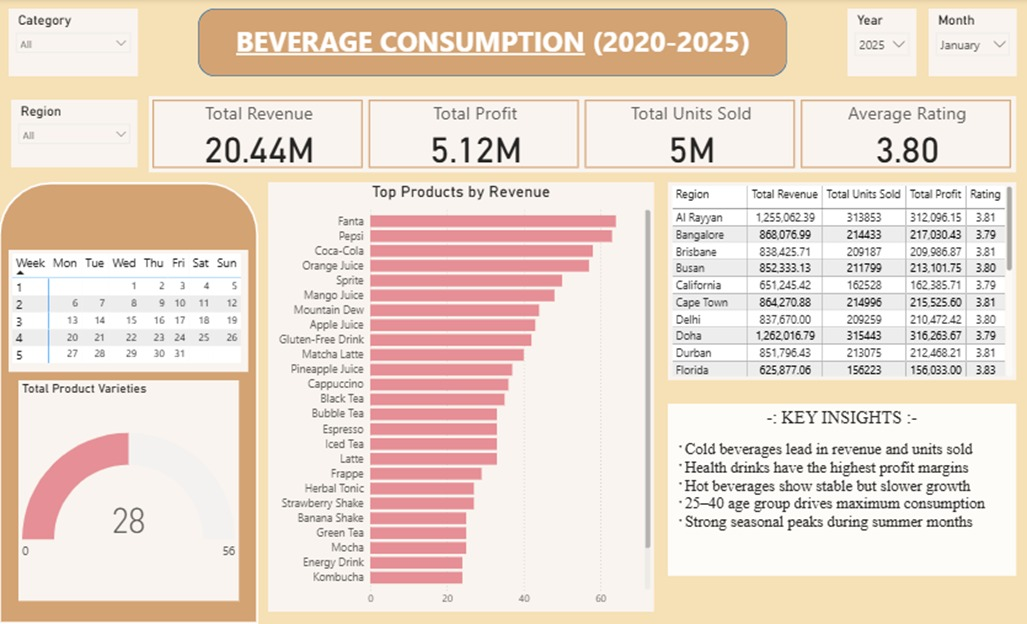

Layout of this report page (visuals, bound fields, positions):
{"tool":"powerbi","page":{"name":"Page 1","canvas":[1400,850],"ordinal":0},"visuals":[{"type":"shape","box":[271.1,13.4,801.5,92],"z":0},{"type":"shape","box":[0,249.3,353.1,600.7],"z":1000},{"type":"slicer","fields":{"Values":["CalendarTable.Year"]},"box":[1154.5,13.4,93.7,92],"z":2000},{"type":"slicer","fields":{"Values":["CalendarTable.Month"]},"box":[1265,13.4,120.5,92],"z":3000},{"type":"pivotTable","fields":{"Rows":["CalendarTable.Week"],"Columns":["CalendarTable.DayName"],"Values":["Sum(CalendarTable.Day)"]},"box":[13.4,341.3,326.3,165.6],"z":4000},{"type":"cardVisual","fields":{"Data":["Sum(beverages_data.Revenue_USD)","Sum(beverages_data.Profit_USD)","Sum(beverages_data.Unit_Sold)","Avg(beverages_data.Rating)"]},"box":[204.1,132.2,1179.6,103.7],"z":5000},{"type":"textbox","box":[312.9,26.8,719.5,66.9],"z":6000},{"type":"barChart","title":"Top Products by Revenue","fields":{"Y":["CountNonNull(beverages_data.Category)"],"Category":["beverages_data.Product"]},"box":[366.4,249.3,525.4,584],"z":7000},{"type":"tableEx","title":"Country by Profit","fields":{"Values":["beverages_data.Region","Sum(beverages_data.Revenue_USD)","Sum(beverages_data.Unit_Sold)","Sum(beverages_data.Profit)","Avg(beverages_data.Rating)"]},"box":[910.2,249.3,473.5,269.4],"z":8000},{"type":"slicer","fields":{"Values":["beverages_data.Category"]},"box":[13.4,13.4,175.7,92],"z":9000},{"type":"slicer","fields":{"Values":["beverages_data.Region"]},"box":[16.7,137.2,172.3,92],"z":10000},{"type":"textbox","box":[910.2,550.5,473.5,234.3],"z":11000},{"type":"gauge","fields":{"Y":["Count(beverages_data.Product)"]},"box":[26.8,518.7,299.5,299.5],"z":12000}]}

Visuals, with their boxes in screenshot pixels (x1, y1, x2, y2), scaled from the page's 1400x850 canvas onto the 1027x624 screenshot:
shape: left=199, top=10, right=787, bottom=77
shape: left=0, top=183, right=259, bottom=623
slicer - CalendarTable.Year: left=847, top=10, right=916, bottom=77
slicer - CalendarTable.Month: left=928, top=10, right=1016, bottom=77
pivotTable - CalendarTable.Week x CalendarTable.DayName: left=10, top=251, right=249, bottom=372
cardVisual - Sum(beverages_data.Revenue_USD) x Sum(beverages_data.Profit_USD): left=150, top=97, right=1015, bottom=173
textbox: left=230, top=20, right=757, bottom=69
"Top Products by Revenue" barChart: left=269, top=183, right=654, bottom=612
"Country by Profit" tableEx: left=668, top=183, right=1015, bottom=381
slicer - beverages_data.Category: left=10, top=10, right=139, bottom=77
slicer - beverages_data.Region: left=12, top=101, right=139, bottom=168
textbox: left=668, top=404, right=1015, bottom=576
gauge - Count(beverages_data.Product): left=20, top=381, right=239, bottom=601
